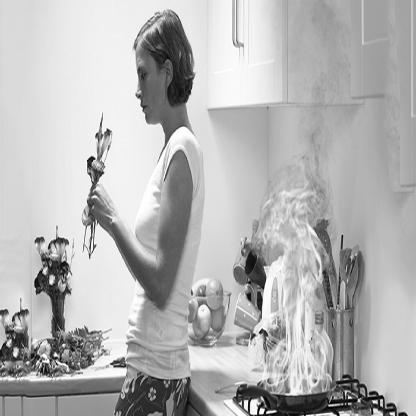fire: (251, 172, 340, 397)
smoke: (279, 0, 416, 197)
